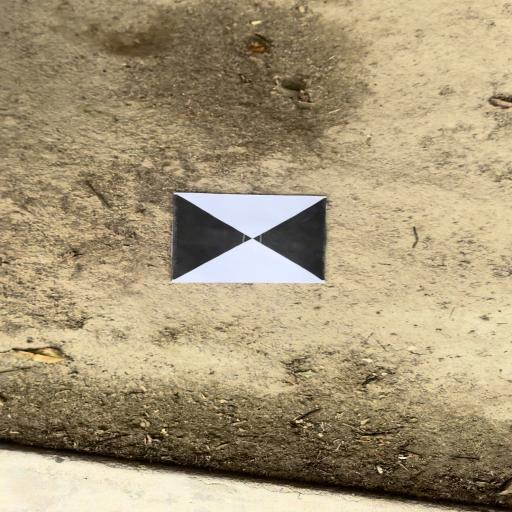target: (172, 192, 325, 283)
